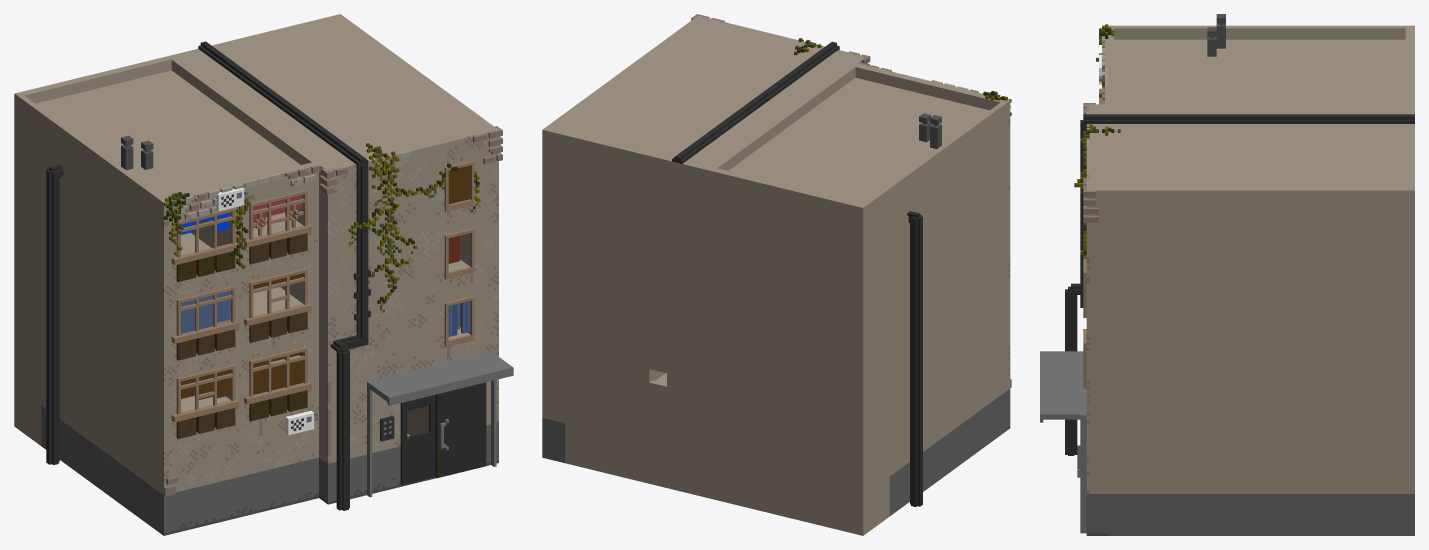
File: TESTOWANIE_VOXELA-11.obj
3 renders of one model, left to right at view 1: azimuth 30°, elevation 25°; view 2: azimuth 150°, elevation 25°; view 3: azimuth 270°, elevation 25°, orthographic. The views are drawn at different scales.
Bounding box in the file's own units: 13.2 × 13 × 12.1.
Materials: 1 (1 with a texture image).
